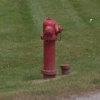Hydrant: (33, 12, 69, 79)
